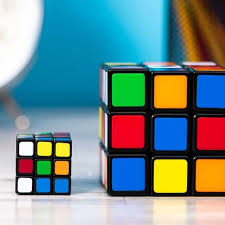cube: (98, 60, 225, 199), (11, 128, 75, 197)
